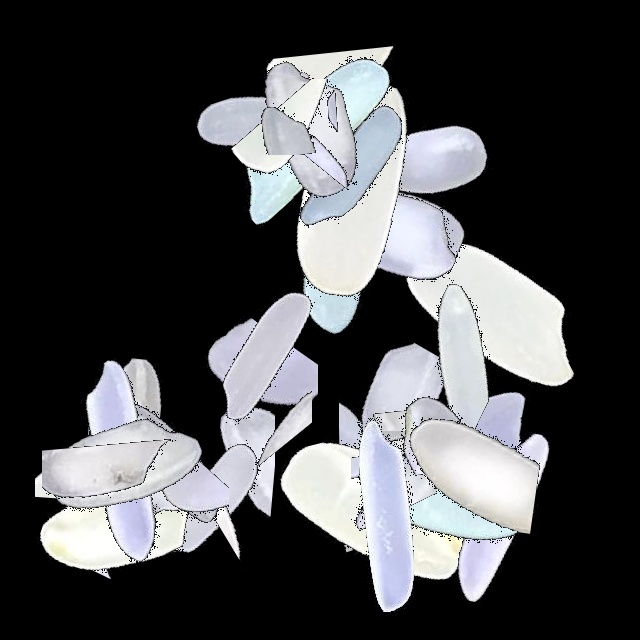Broken: (301, 300, 472, 550), (291, 414, 541, 581), (344, 366, 509, 616), (331, 389, 581, 553), (299, 267, 549, 429), (169, 278, 318, 528), (360, 272, 507, 522), (260, 0, 404, 250), (42, 387, 177, 637), (143, 337, 275, 587), (35, 314, 158, 564), (317, 329, 437, 579), (111, 390, 229, 640), (242, 44, 492, 161), (203, 271, 312, 521), (162, 47, 412, 155), (206, 79, 456, 186), (300, 0, 407, 250), (339, 300, 445, 550), (351, 375, 455, 625), (194, 347, 292, 597), (273, 431, 523, 529), (256, 18, 346, 268), (70, 366, 157, 616), (19, 508, 269, 591), (170, 81, 420, 163)
Full: (0, 314, 250, 564), (368, 188, 618, 438), (309, 36, 559, 286), (284, 102, 534, 352), (139, 0, 389, 250), (219, 116, 469, 366), (353, 308, 603, 558), (0, 356, 250, 606), (276, 108, 526, 358), (246, 390, 496, 640), (77, 376, 327, 626), (0, 300, 250, 550), (0, 390, 250, 640), (225, 63, 475, 313), (226, 42, 476, 292), (32, 337, 282, 587), (137, 231, 387, 481), (375, 390, 625, 640), (315, 368, 565, 618), (0, 336, 250, 586), (188, 11, 438, 261), (188, 0, 438, 250), (262, 390, 512, 640)
